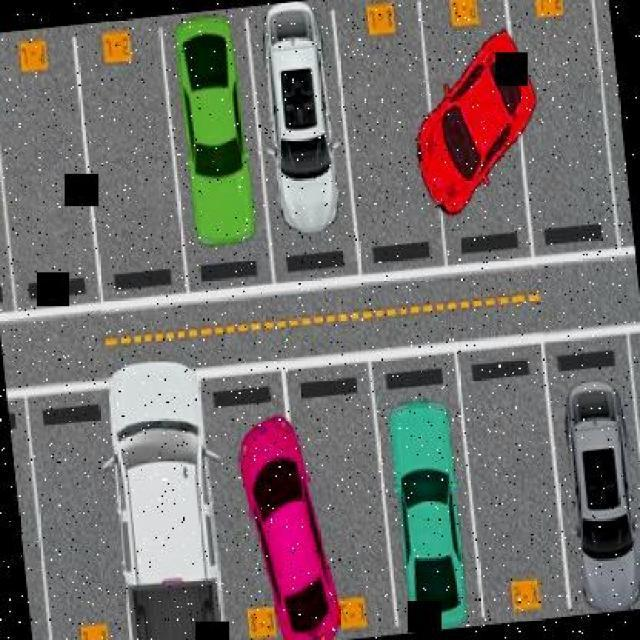car: (83, 354, 231, 640), (401, 11, 548, 212), (372, 385, 476, 633), (247, 0, 344, 255), (547, 370, 640, 615), (170, 8, 264, 250), (246, 391, 328, 640)
free: (76, 20, 182, 262), (0, 26, 97, 283), (461, 378, 561, 624), (23, 404, 126, 640), (510, 6, 616, 228), (339, 20, 430, 236), (302, 403, 384, 622)
